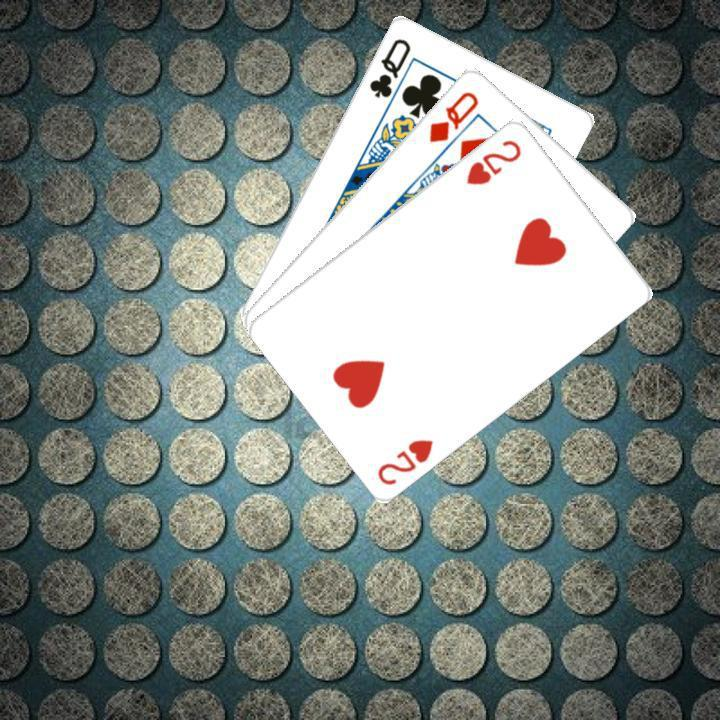2: (461, 134, 524, 187), (373, 434, 436, 487)
Q: (424, 86, 481, 144), (364, 33, 413, 100)
